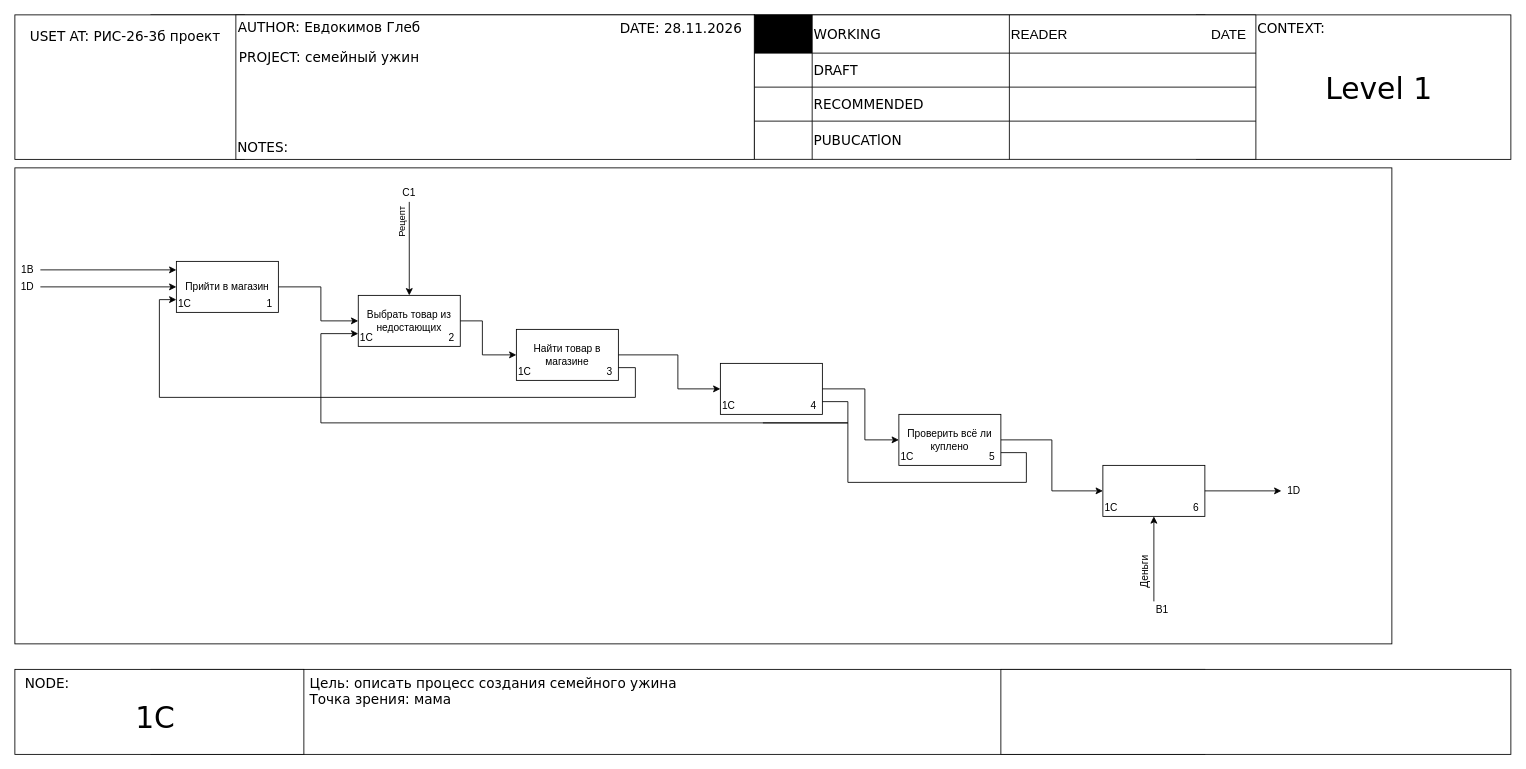
Some shapes in this 1526 by 769 pixel diagram are drawn without their labels. The box of each missing label's shape, as (x1, y1, x2, y2) in pixels:
NUMBER:: (1000, 669, 1511, 754)
Купить товары: (1102, 465, 1205, 516)
Сравнить цены: (720, 363, 822, 414)
